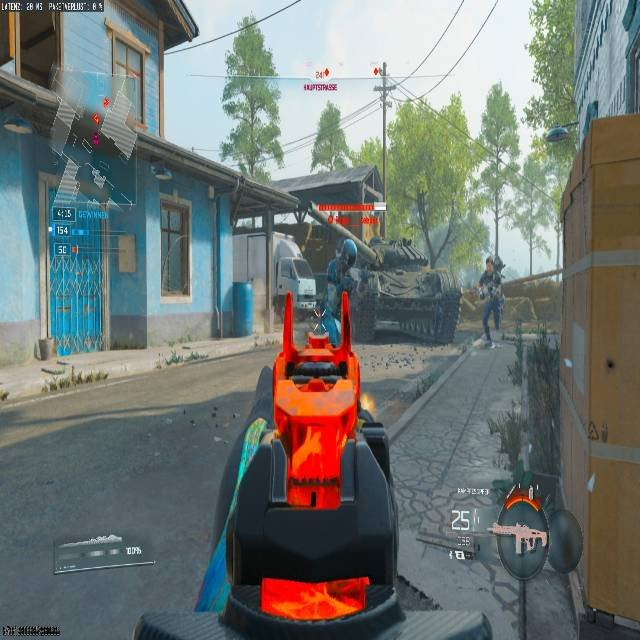head: (484, 255, 501, 274)
player: (321, 230, 378, 344), (477, 255, 506, 343)
